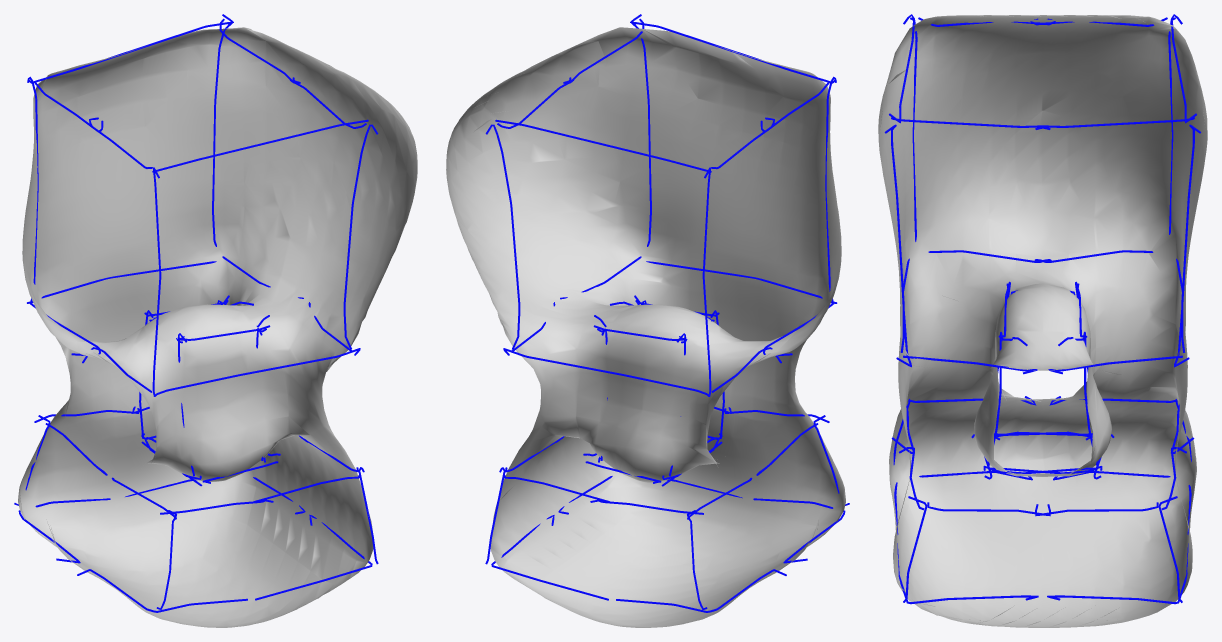
The model's file is cassie_p11_lamp_sketch_proxy.glb.
3 renders of one model, left to right at view 1: azimuth 30°, elevation 25°; view 2: azimuth 150°, elevation 25°; view 3: azimuth 270°, elevation 25°, orthographic. The views are drawn at different scales.
Visible parts, largest first — view 1: cassie_p11_lamp_surface, cassie_p11_lamp; view 2: cassie_p11_lamp_surface, cassie_p11_lamp; view 3: cassie_p11_lamp_surface, cassie_p11_lamp.
Boxes of the visible parts, x1,y1,x2,y2 form: cassie_p11_lamp_surface: (18, 27, 417, 627); cassie_p11_lamp: (14, 14, 378, 612); cassie_p11_lamp_surface: (446, 27, 845, 627); cassie_p11_lamp: (485, 14, 849, 612); cassie_p11_lamp_surface: (878, 15, 1207, 627); cassie_p11_lamp: (884, 14, 1200, 604).
Bounding box in the file's own units: 0.8203 × 1.17 × 0.6191.
